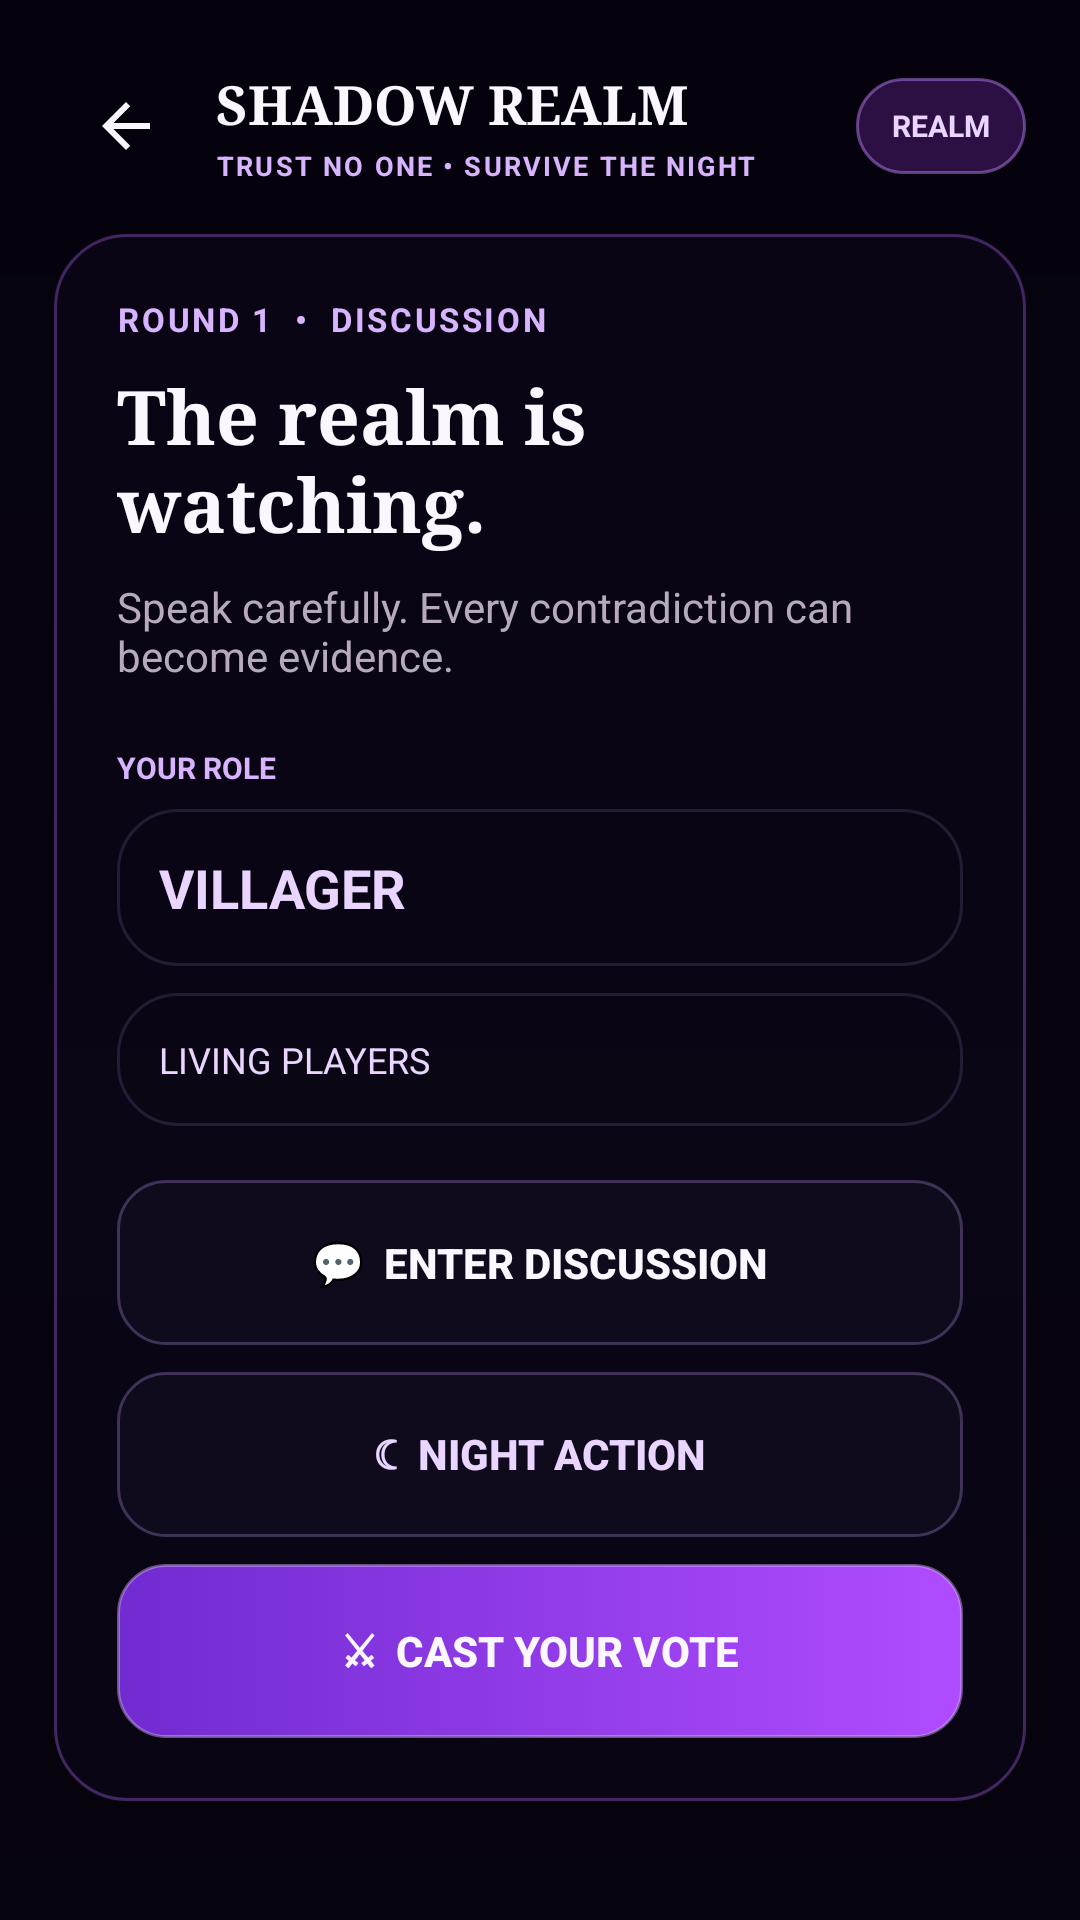

Icons on this 1080x1920 Android screen, each with its box as [left=x1, top=y1, right=x2, bottom=y2]:
Back: [left=102, top=102, right=150, bottom=150]
